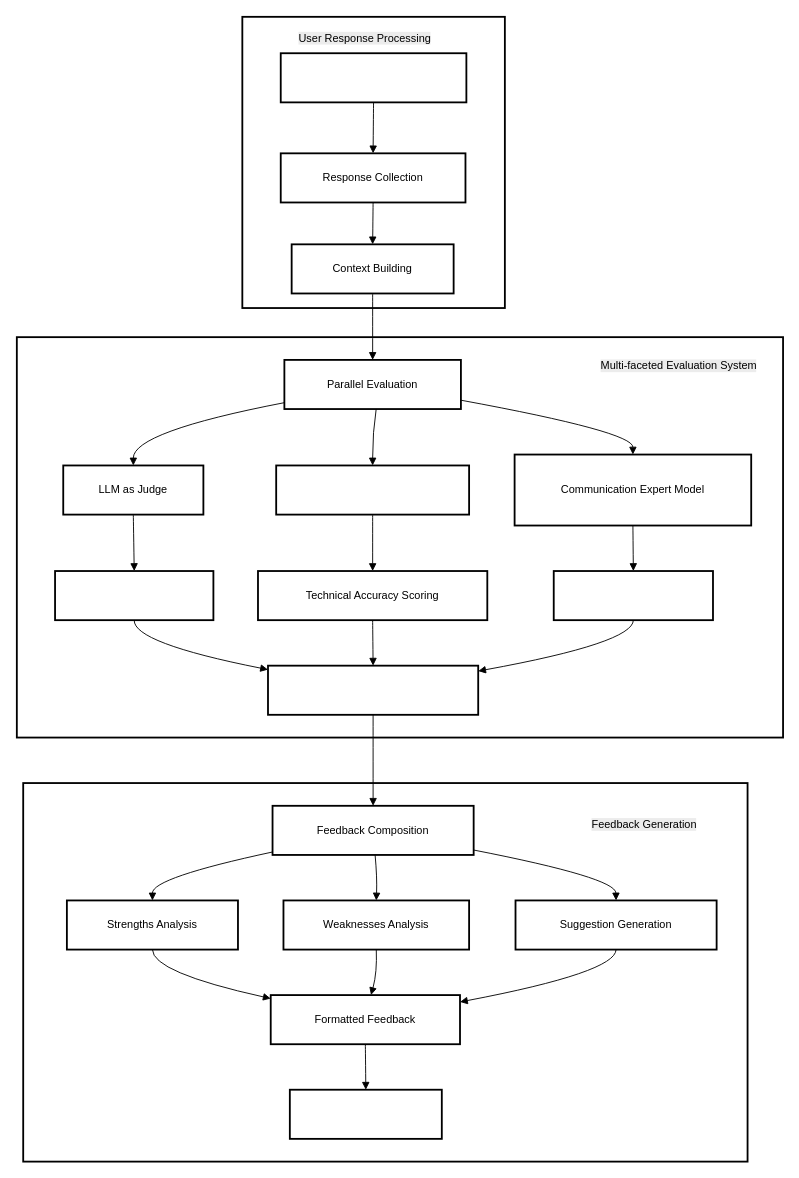
The diagram is 799 pixels wide and 1178 high, and some of its shapes have lost their labels. The shapes that lost their labels are listed below. From the top down, each one's centre as x and y in pixels, then its label:
point (373, 77): User Response Input
point (372, 489): Domain Expert Model
point (134, 595): Content Scoring
point (632, 595): Delivery Scoring
point (373, 689): Weighted Scoring Model
point (365, 1113): Display to User
